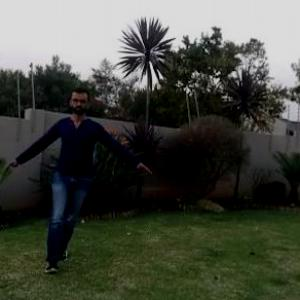land: (24, 90, 151, 246)
